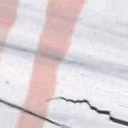crackTip: (1, 85, 127, 128)
